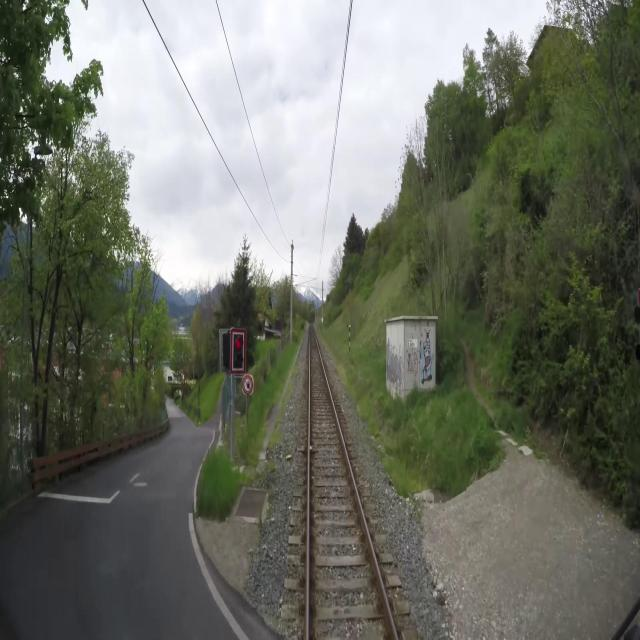rail-track: (310, 328, 393, 639)
